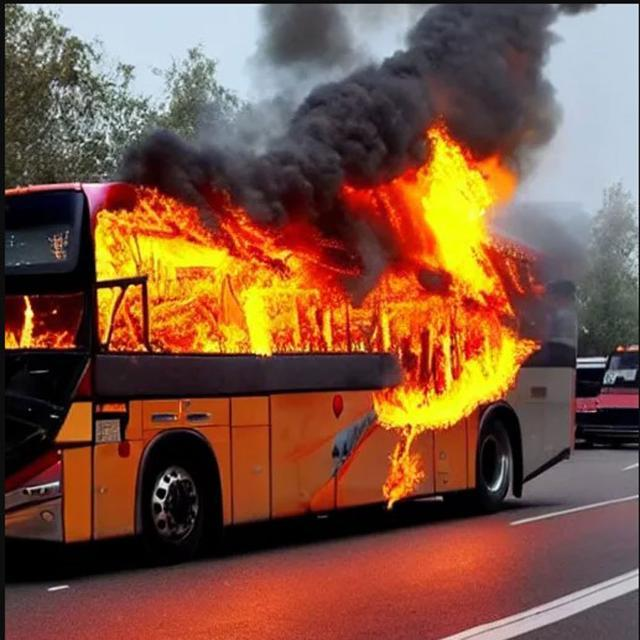Fire: (95, 115, 541, 428), (380, 431, 436, 509), (5, 294, 74, 348)
Smoke: (127, 4, 640, 271)
